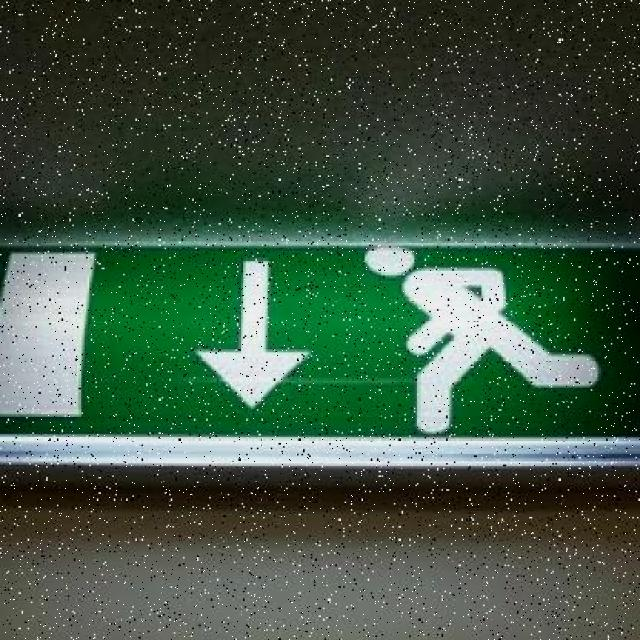emergency_exit: (1, 241, 639, 468)
